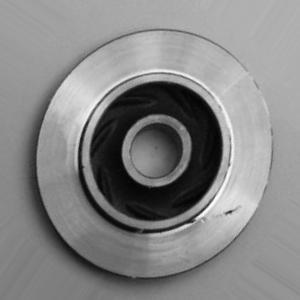defect: (162, 199, 253, 229)
